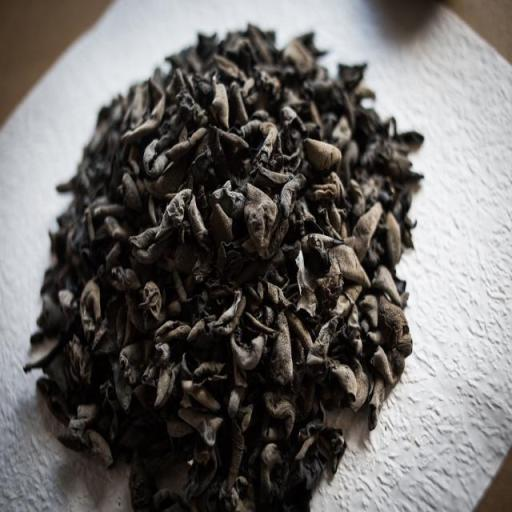Wood Ear Mushroom: (31, 26, 425, 507)
